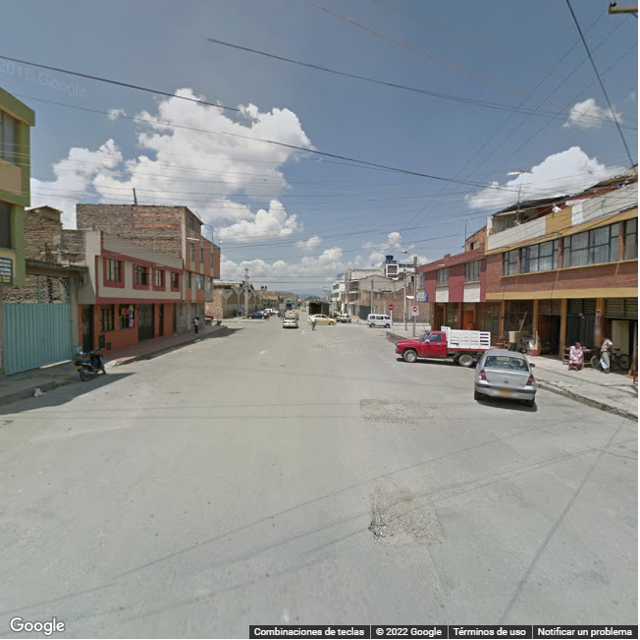D00: (422, 544, 447, 587)
D40: (374, 494, 441, 543)
